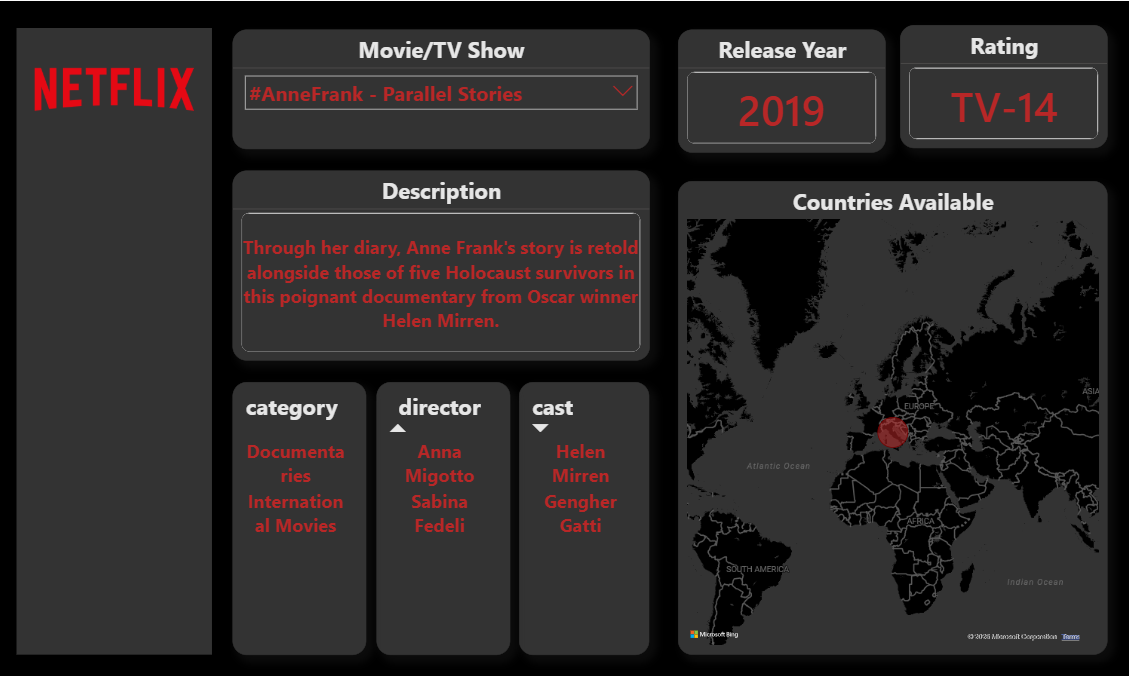

The dashboard page shown, as its layout file describes it:
{"tool":"powerbi","page":{"name":"Single Title view","canvas":[1500,900],"ordinal":1},"visuals":[{"type":"shape","box":[21,35,259.1,830.9],"z":0},{"type":"tableEx","title":"Shows added by Date","fields":{"Values":["netflixx_data netflix_cast.cast"]},"box":[688.5,504.2,172.7,361.8],"z":1000},{"type":"cardVisual","title":"Rating","fields":{"Data":["Min(netflixx_data netflix_titles (1).rating)"]},"box":[1192.7,32.7,275.4,163.4],"z":2000},{"type":"map","title":"Countries Available","fields":{"Category":["netflixx_data countries_released.country"],"Size":["CountNonNull(netflixx_data countries_released.show_id)"]},"box":[898.6,238.1,569.5,627.9],"z":3000},{"type":"image","box":[21,32.7,259.1,163.4],"z":4000},{"type":"slicer","title":"Movie/TV Show","fields":{"Values":["netflixx_data netflix_titles (1).title"]},"box":[308.1,37.3,553.2,158.7],"z":5000},{"type":"cardVisual","title":"Release Year","fields":{"Data":["netflixx_data netflix_titles (1).Release Year Card"]},"box":[898.6,37.3,275.4,163.4],"z":6000},{"type":"tableEx","title":"Shows added by Date","fields":{"Values":["netflixx_data netflix_directors.director"]},"box":[499.5,504.2,177.4,361.8],"z":7000},{"type":"tableEx","title":"Shows added by Date","fields":{"Values":["netflixx_data netflix_listed_in.category"]},"box":[308.1,504.2,177.4,361.8],"z":8000},{"type":"cardVisual","title":"Description","fields":{"Data":["Min(netflixx_data description.description)"]},"box":[308.1,224.1,553.2,252.1],"z":9000}]}

Visuals, with their boxes in screenshot pixels (x1, y1, x2, y2), scaled from the page's 1500x900 canvas onto the 1129x676 screenshot:
shape: (16,26,211,650)
"Shows added by Date" tableEx: (518,379,648,650)
"Rating" cardVisual: (898,25,1105,147)
"Countries Available" map: (676,179,1105,650)
image: (16,25,211,147)
"Movie/TV Show" slicer: (232,28,648,147)
"Release Year" cardVisual: (676,28,884,151)
"Shows added by Date" tableEx: (376,379,509,650)
"Shows added by Date" tableEx: (232,379,365,650)
"Description" cardVisual: (232,168,648,358)
